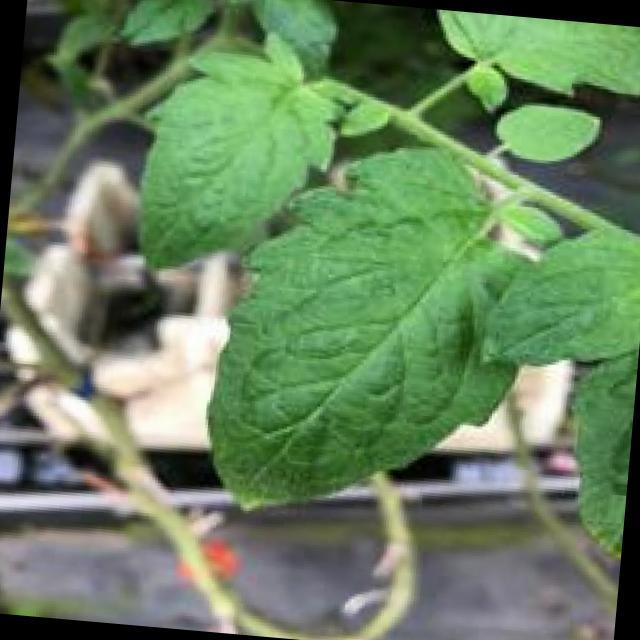Tomato healthy leaf: (207, 152, 640, 563), (139, 38, 332, 270), (441, 9, 640, 100), (493, 106, 602, 164)
